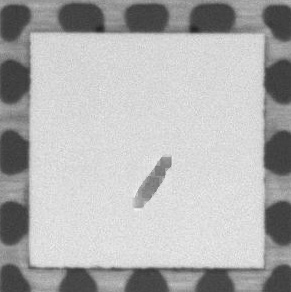DIE_INK: (130, 153, 175, 213)
